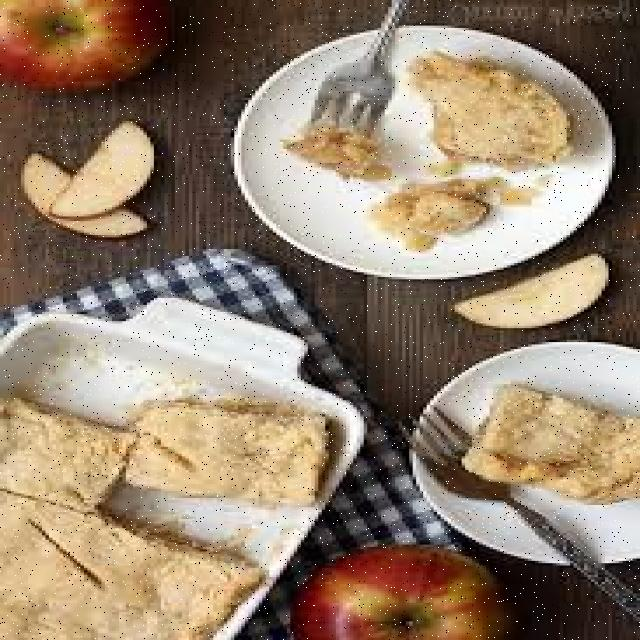Apple: (288, 547, 504, 639), (5, 0, 167, 88), (454, 256, 614, 333), (23, 155, 143, 241), (56, 123, 159, 221)
